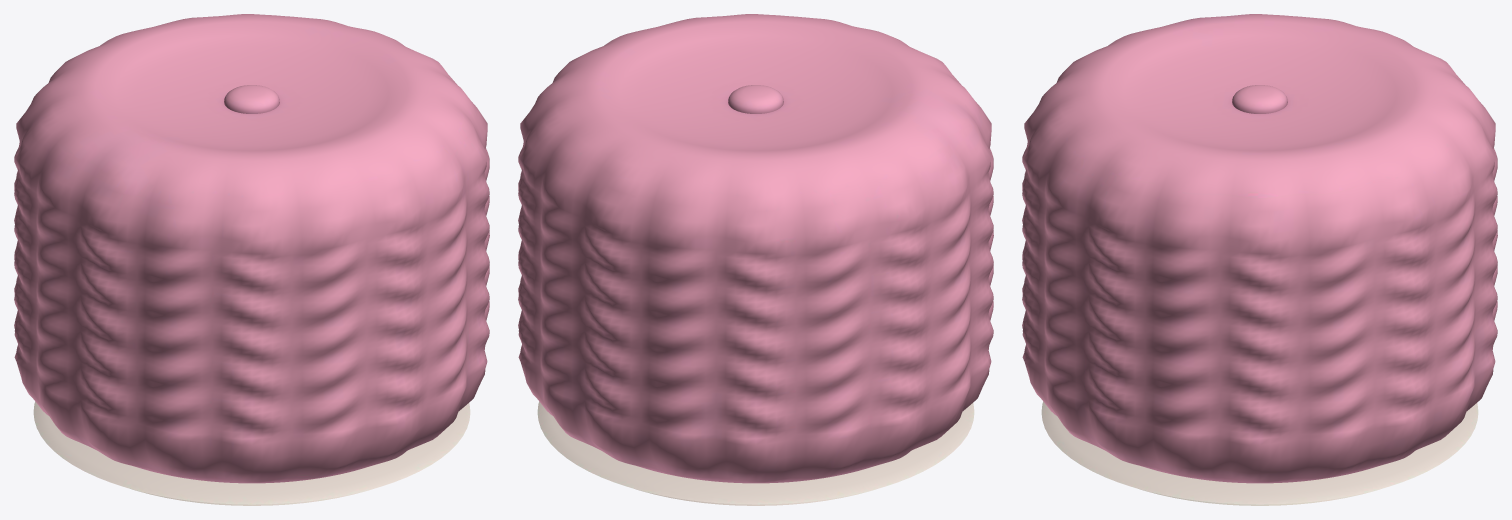
Rendered from pouf.glb.
3 renders of one model, left to right at view 1: azimuth 30°, elevation 25°; view 2: azimuth 150°, elevation 25°; view 3: azimuth 270°, elevation 25°, orthographic.
Visible parts, largest first — view 1: pouf_body; view 2: pouf_body; view 3: pouf_body.
Part boxes in pixels (x1,y1,x2,y2): pouf_body: (14, 14, 489, 505); pouf_body: (518, 14, 993, 505); pouf_body: (1022, 14, 1497, 505).
Size of the model in its own units: 0.525 by 0.4003 by 0.5179.
Materials: 1 (1 with a texture image).
